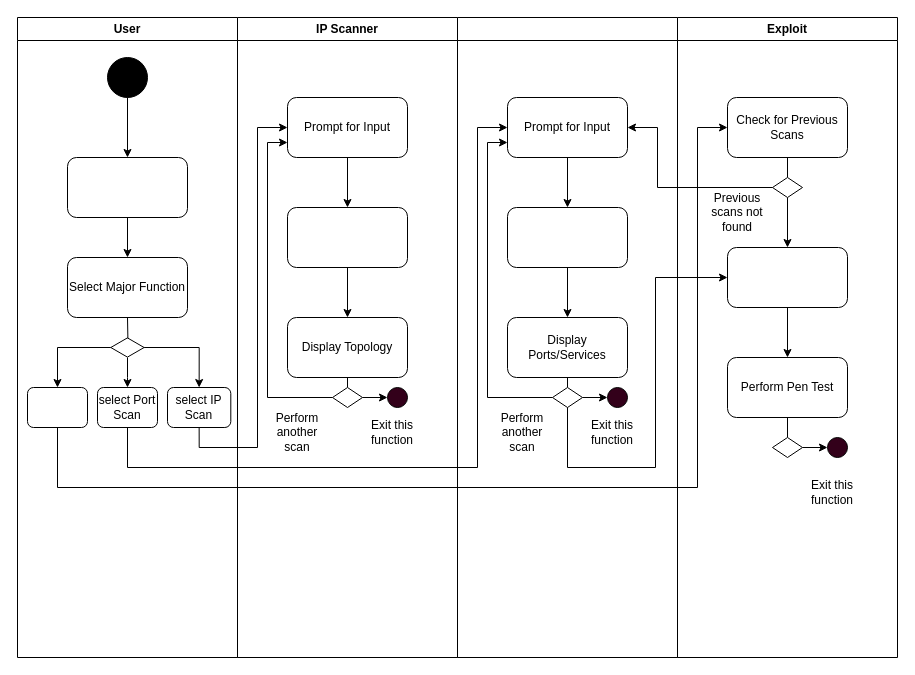
This 915x675 diagram has some shape labels left out. The box of each missing label's shape, as (x1, y1, x2, y2) in pixels:
Display exploits: (726, 246, 848, 308)
Perform Network Scan: (286, 206, 408, 268)
Port Scanner: (456, 16, 678, 658)
Scan host's ports: (506, 206, 628, 268)
Select Exploit: (26, 386, 88, 428)
Starts Program: (66, 156, 188, 218)
